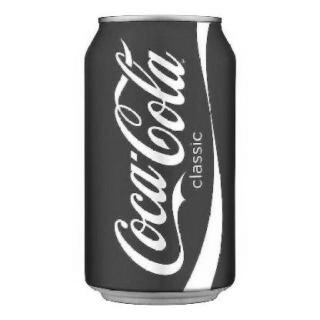alumunium_can: (85, 13, 238, 305)
